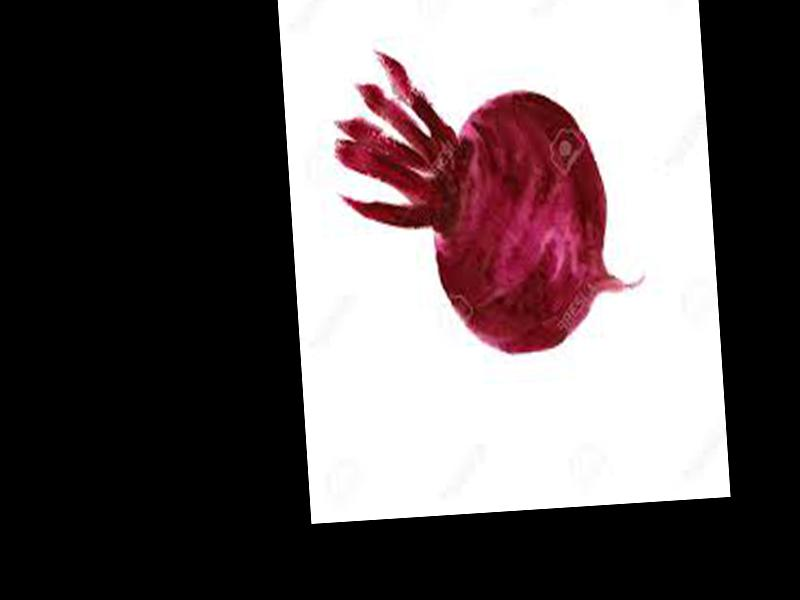Beet: (329, 36, 650, 366)
